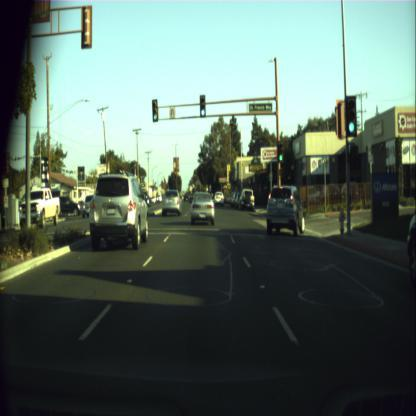Green: (346, 98, 355, 132), (200, 94, 206, 116), (152, 100, 158, 121), (278, 141, 283, 161)
